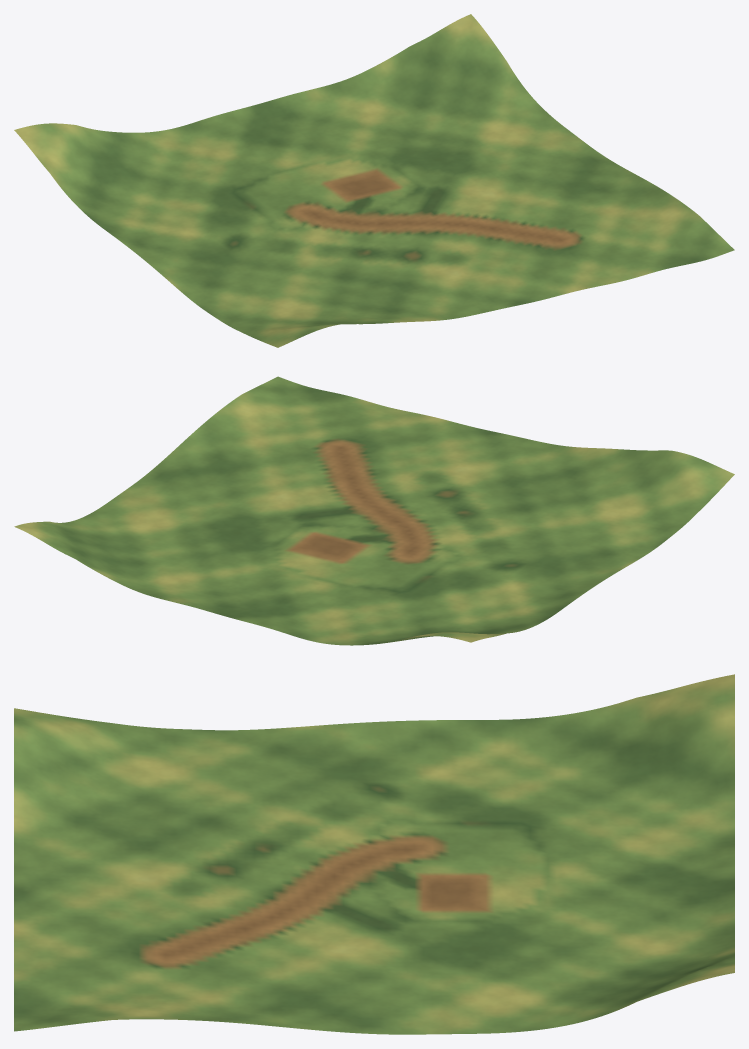
File: foundation_terrain.glb
The picture shows the model from 3 angles, top to bottom: view 1: azimuth 30°, elevation 25°; view 2: azimuth 150°, elevation 25°; view 3: azimuth 270°, elevation 25°; orthographic projection. The views are drawn at different scales.
Parts seen in each view (by area): view 1: Terrain; view 2: Terrain; view 3: Terrain.
Boxes of the visible parts, x1,y1,x2,y2 form: Terrain: (14,14,734,347); Terrain: (14,376,734,645); Terrain: (14,674,734,1034).
Bounding box in the file's own units: 25.92 × 2.53 × 25.92.
1 material, 1 textured.
